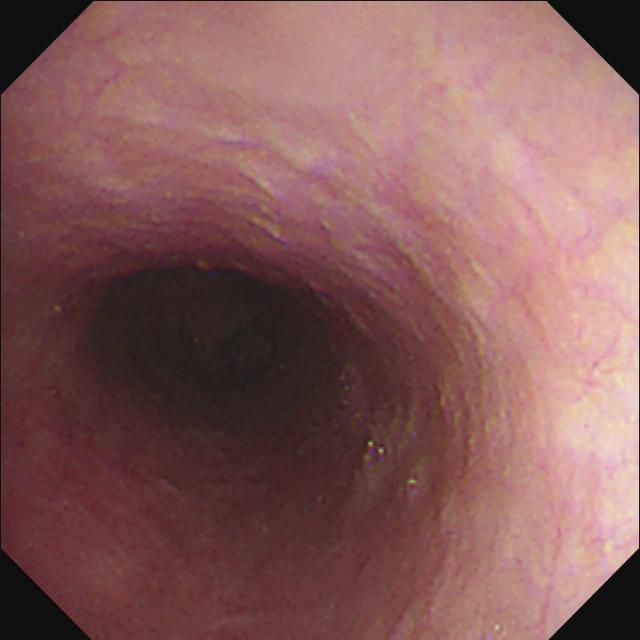E: (85, 254, 314, 447)
